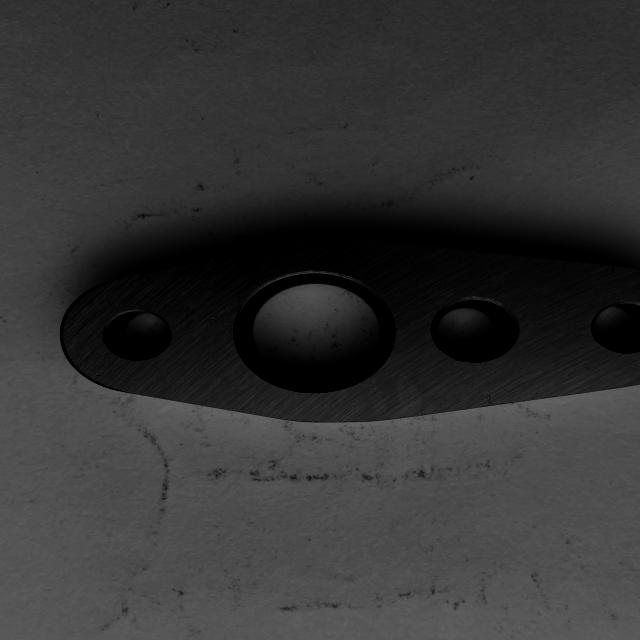chap: (478, 362, 487, 370), (94, 373, 105, 378)
lines: (484, 394, 494, 405)
